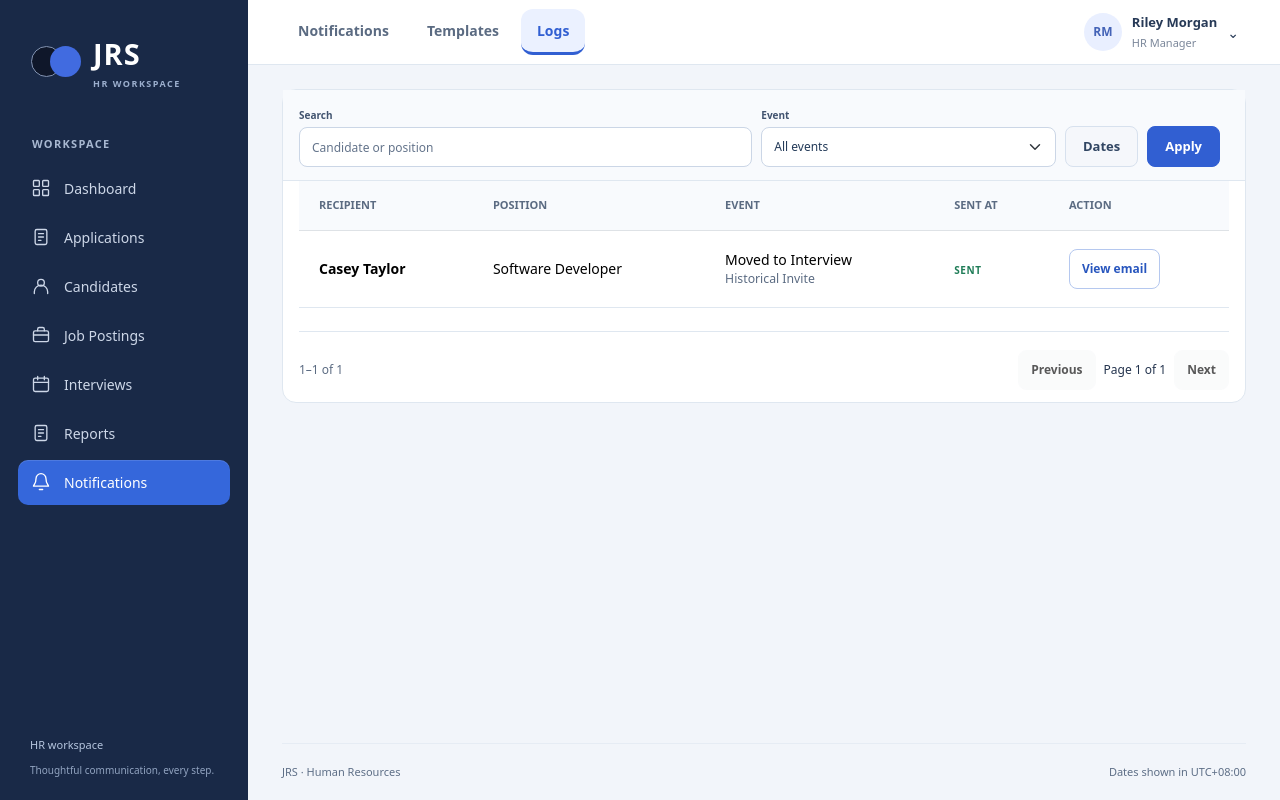
logs and HR profile › shows attachment errors without presenting a fake download
Click the button with aria-label "View email to Casey Taylor" at (1114, 268), box x1=1069 y1=248 x2=1160 y2=288
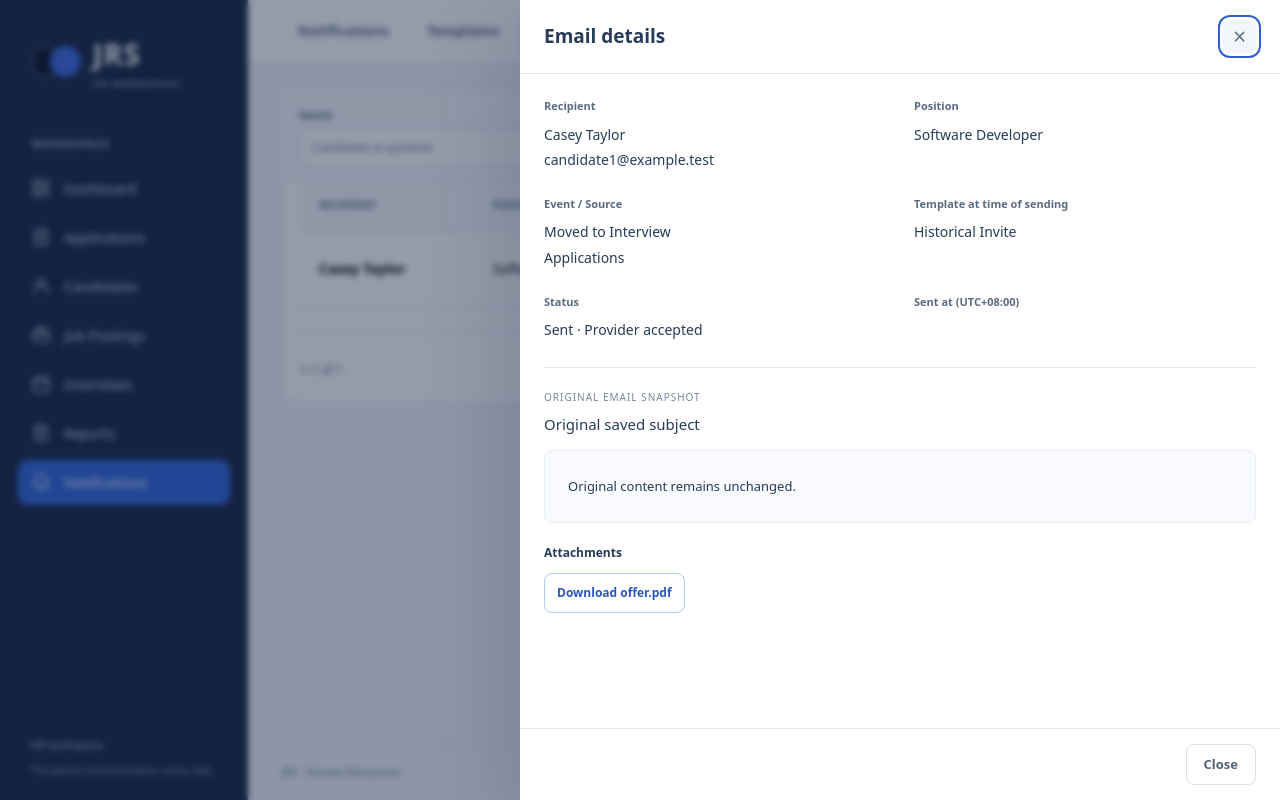
Click the button "Download offer.pdf" at (614, 592), box x1=544 y1=572 x2=685 y2=612
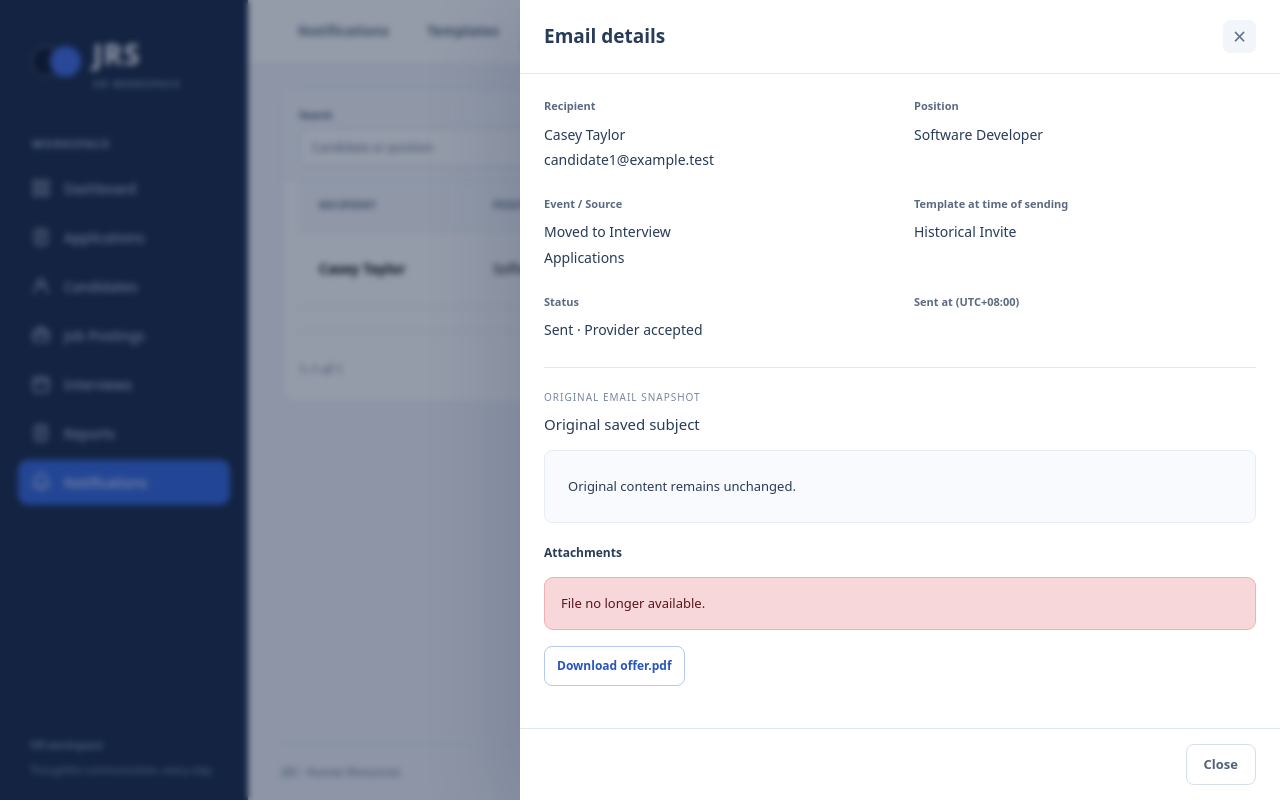
expect the message shows "File no longer available": met, box x1=561 y1=594 x2=705 y2=612
